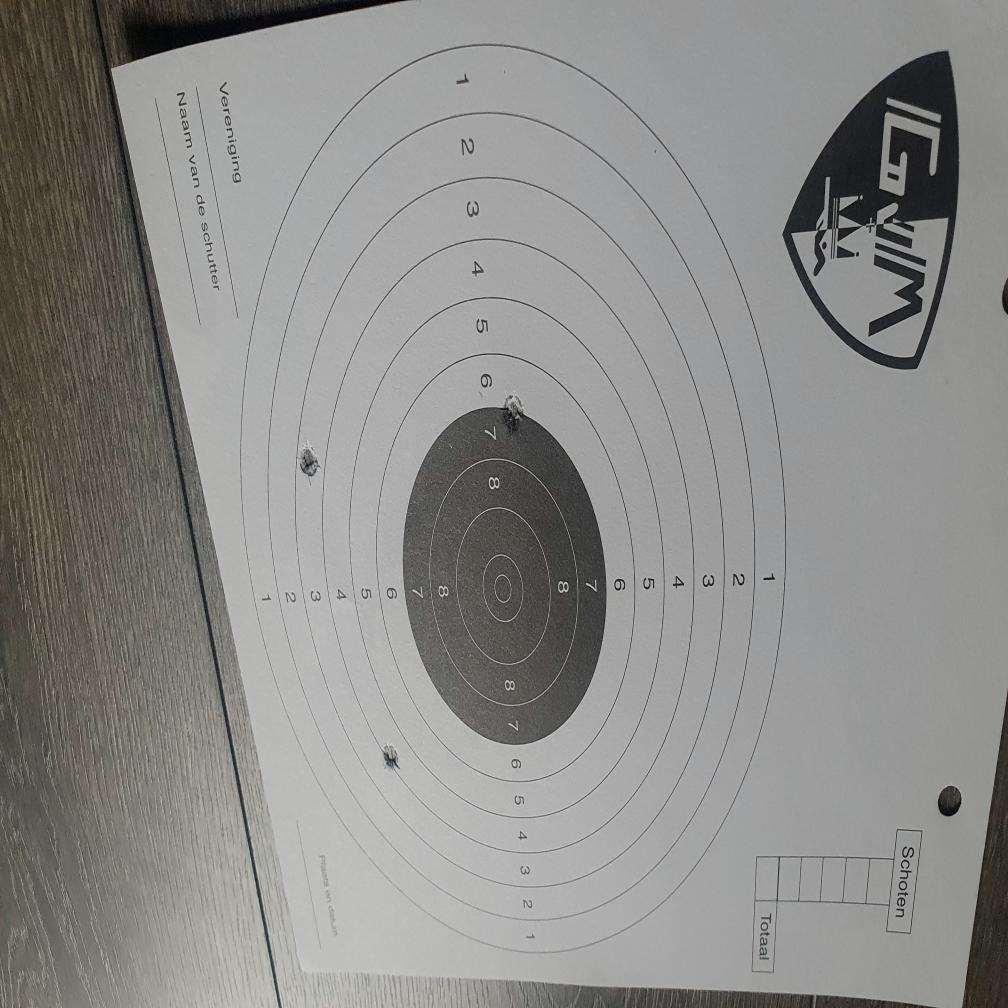3: (295, 436, 321, 487)
4: (380, 741, 401, 774)
7: (500, 391, 526, 437)
Target: (236, 41, 788, 962)
black_contour: (402, 406, 606, 747)
